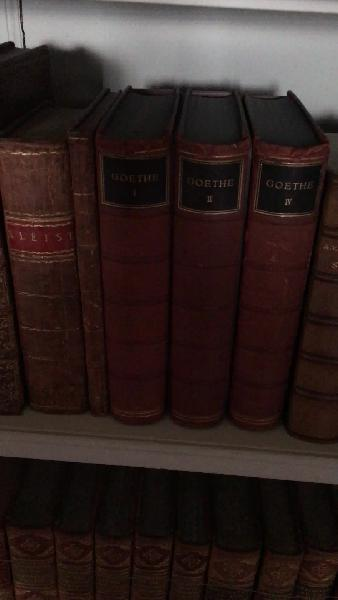Aa6-10: (59, 131, 110, 418)
Aa6-11_13: (97, 130, 322, 441)
Aa6-9: (4, 131, 86, 422)
